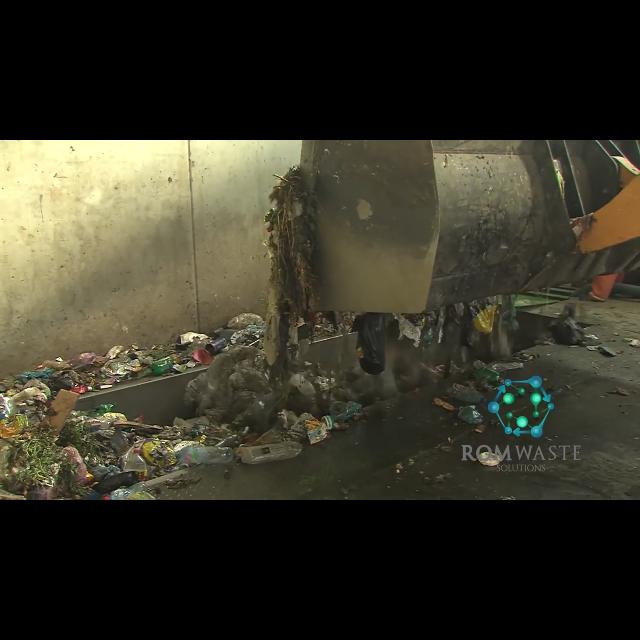trash: (239, 440, 307, 464), (180, 446, 236, 466), (124, 450, 148, 486), (473, 364, 507, 388), (457, 404, 483, 426), (148, 359, 178, 377), (104, 488, 132, 500), (134, 414, 144, 424)
